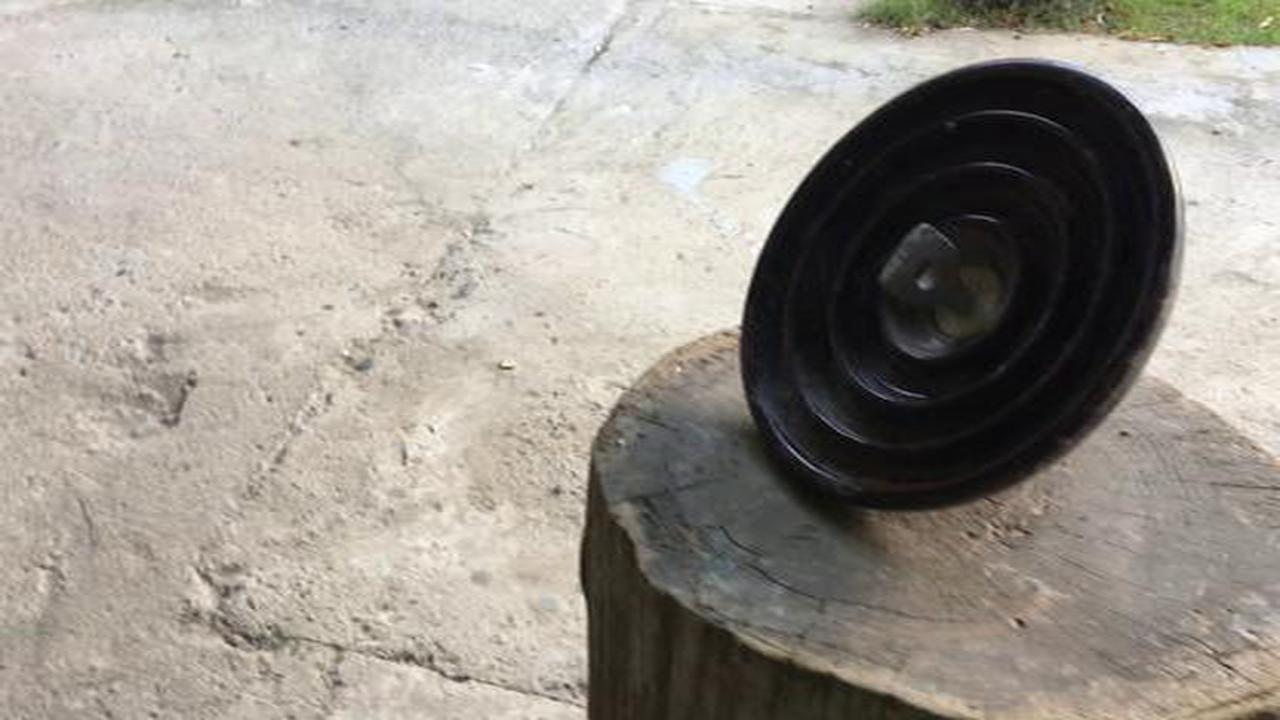insulator_disc: (732, 50, 1193, 530)
